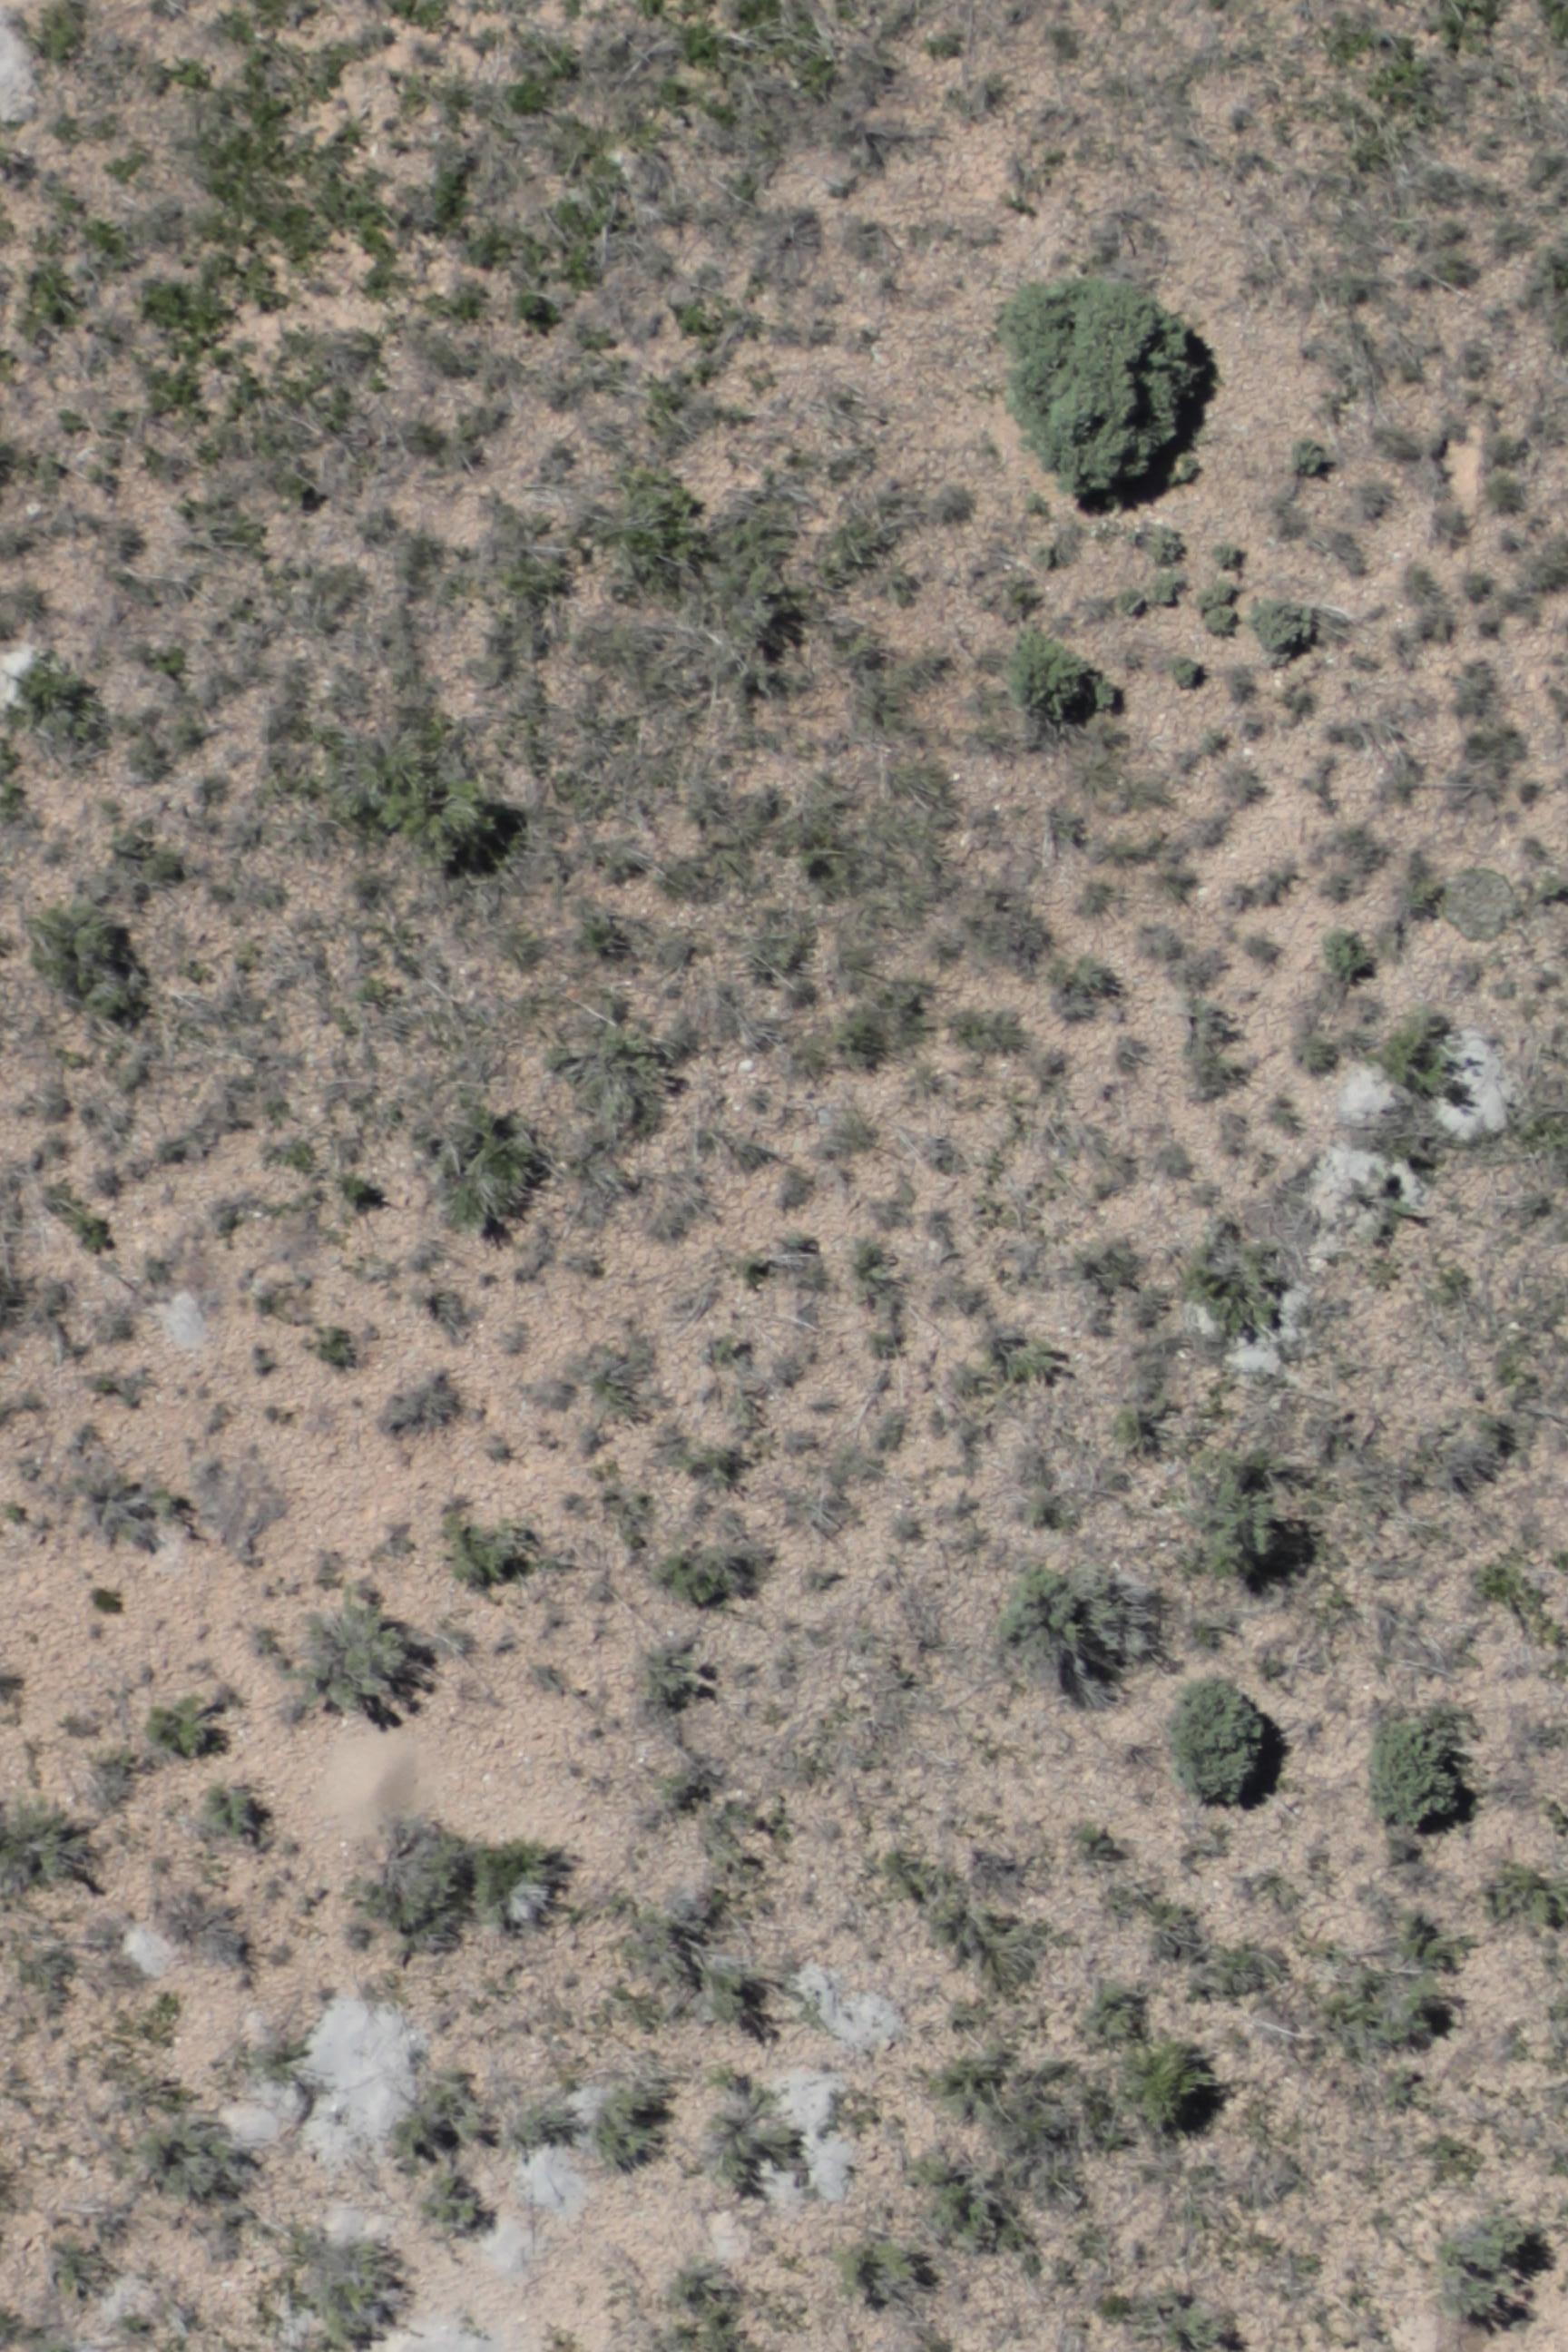burrow: (306, 1705, 445, 1852)
